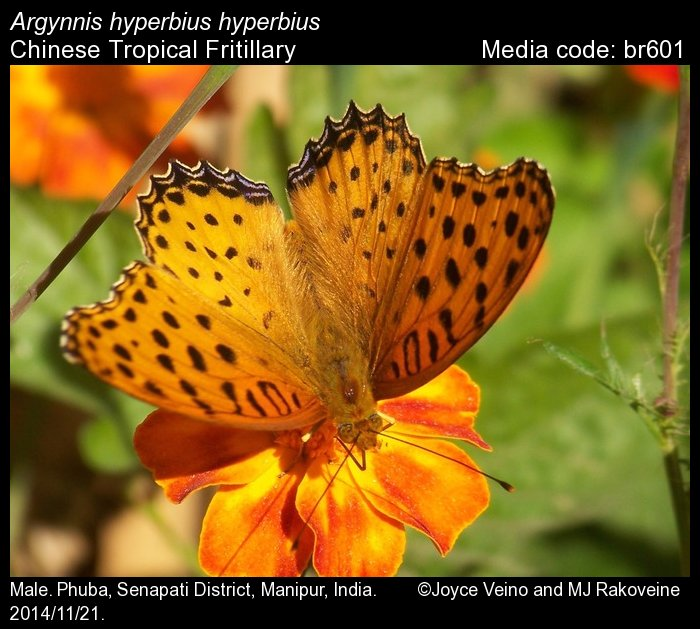Argyreus hyperbius: (56, 101, 563, 549)
butterfly: (58, 103, 565, 551)
